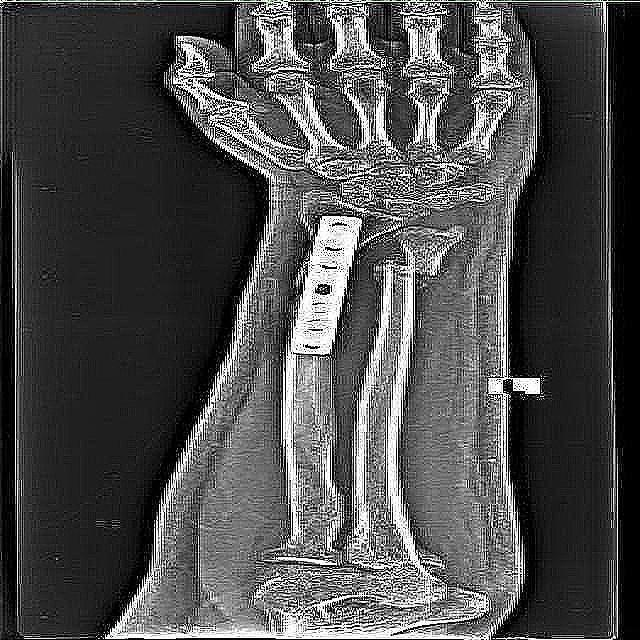bone: (378, 234, 456, 298)
